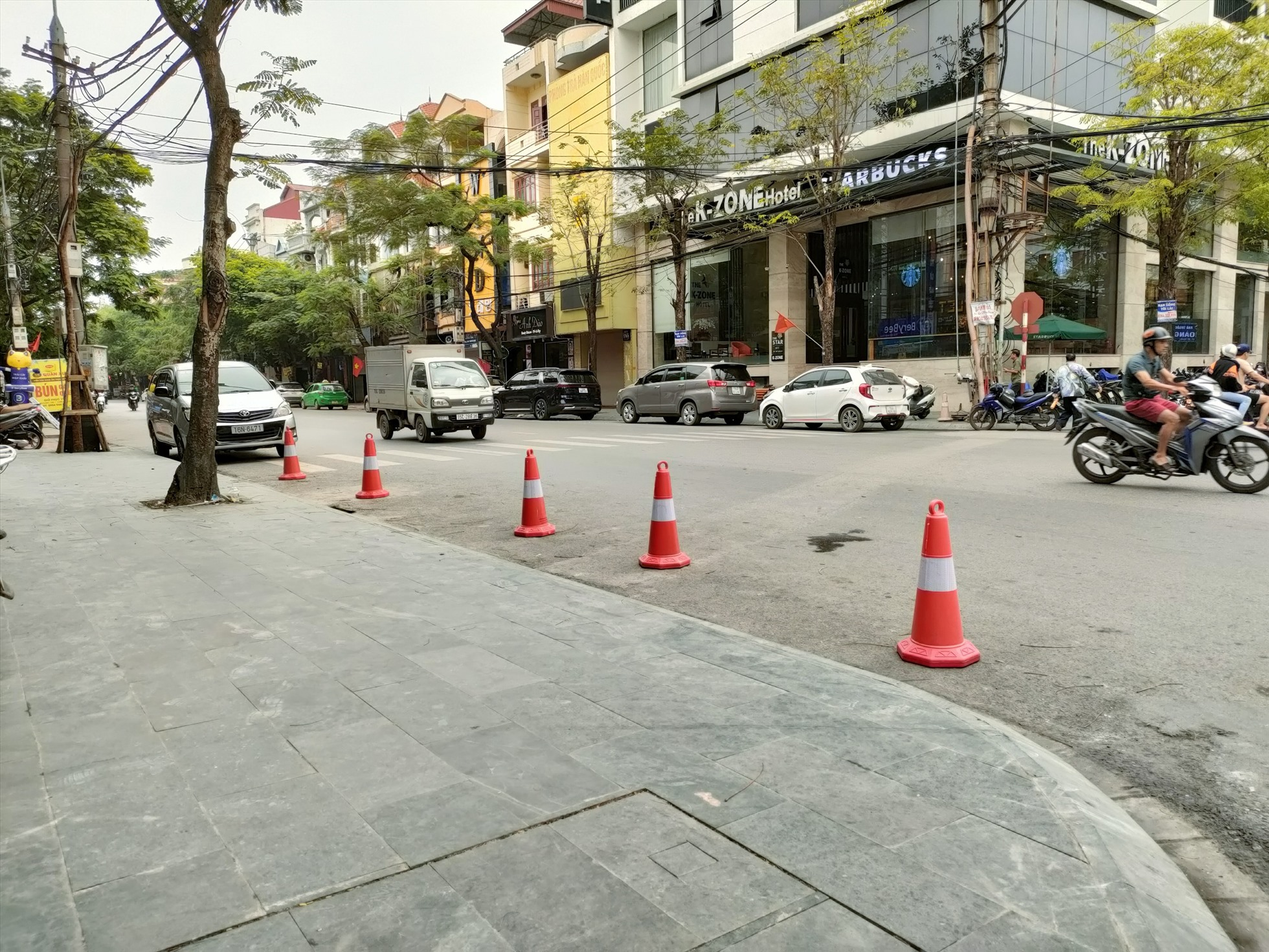ROAD_FLOODING: (51, 414, 1142, 823)
